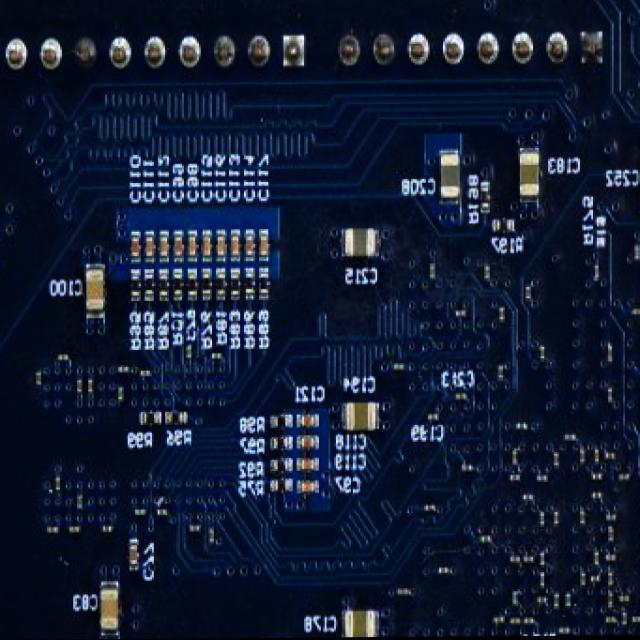capacitor: (343, 227, 378, 260), (344, 401, 378, 434), (438, 153, 460, 202), (519, 151, 540, 200), (346, 608, 378, 638), (98, 587, 118, 632), (85, 268, 105, 313), (298, 481, 316, 495), (298, 458, 316, 472), (298, 436, 316, 450), (298, 415, 316, 429), (144, 234, 154, 259), (129, 234, 139, 259), (259, 233, 268, 259), (244, 233, 253, 259), (216, 233, 225, 259), (128, 543, 137, 568), (201, 234, 210, 259), (188, 234, 197, 259), (173, 234, 182, 259), (158, 234, 167, 259), (229, 233, 238, 257), (189, 524, 201, 536), (56, 352, 68, 363), (511, 449, 518, 467), (618, 595, 629, 606), (588, 574, 599, 585), (509, 616, 520, 627), (438, 566, 449, 577), (509, 554, 520, 565), (524, 556, 535, 567), (425, 504, 436, 515), (592, 490, 603, 501), (592, 471, 603, 482), (618, 473, 629, 484), (620, 612, 627, 629), (607, 593, 614, 610), (607, 572, 614, 589), (592, 552, 599, 569), (579, 573, 586, 590), (564, 594, 571, 611), (511, 590, 518, 607), (579, 511, 586, 528), (607, 527, 614, 544), (579, 449, 586, 466), (592, 449, 599, 466), (607, 387, 614, 404), (607, 345, 614, 362), (592, 265, 599, 282), (633, 246, 640, 263), (498, 307, 505, 324), (483, 266, 490, 283), (496, 365, 503, 382), (76, 495, 83, 512), (76, 379, 83, 395), (87, 378, 94, 394), (117, 386, 124, 402), (209, 528, 216, 544), (605, 616, 616, 626), (523, 616, 533, 627), (493, 616, 503, 627), (455, 309, 466, 319), (605, 554, 616, 564), (479, 534, 490, 544), (463, 462, 473, 473), (509, 474, 520, 484), (523, 492, 533, 503), (605, 451, 616, 461), (427, 412, 437, 423), (455, 392, 466, 402), (393, 362, 404, 372), (117, 365, 128, 375), (211, 351, 222, 361), (35, 369, 41, 387), (553, 594, 559, 611), (540, 573, 546, 590), (540, 552, 546, 569), (540, 346, 546, 363), (553, 511, 559, 528), (538, 511, 544, 528), (553, 453, 559, 470), (525, 286, 531, 303), (429, 264, 435, 281), (538, 596, 548, 606), (397, 587, 407, 597), (536, 474, 546, 484), (564, 432, 574, 442), (517, 423, 527, 433), (139, 369, 150, 378), (68, 525, 79, 534), (102, 525, 113, 534), (134, 508, 145, 517), (156, 508, 167, 517), (560, 627, 569, 637), (187, 346, 193, 361), (54, 476, 60, 491), (48, 525, 58, 534), (632, 616, 640, 625), (632, 308, 640, 317)
resistor: (479, 186, 490, 213), (142, 410, 160, 426), (271, 436, 289, 452), (130, 273, 141, 298), (167, 410, 184, 426), (272, 415, 289, 431), (272, 479, 289, 495), (494, 219, 512, 234), (215, 271, 225, 297), (272, 458, 289, 473), (187, 273, 197, 298), (245, 271, 255, 296), (159, 273, 169, 298), (144, 273, 154, 297), (229, 272, 238, 297), (201, 273, 210, 297), (259, 271, 268, 295), (173, 273, 182, 297)
